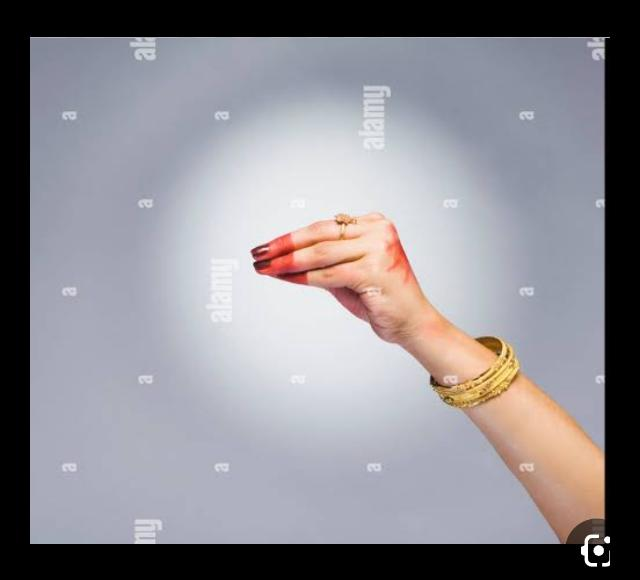mukul: (254, 209, 604, 541)
